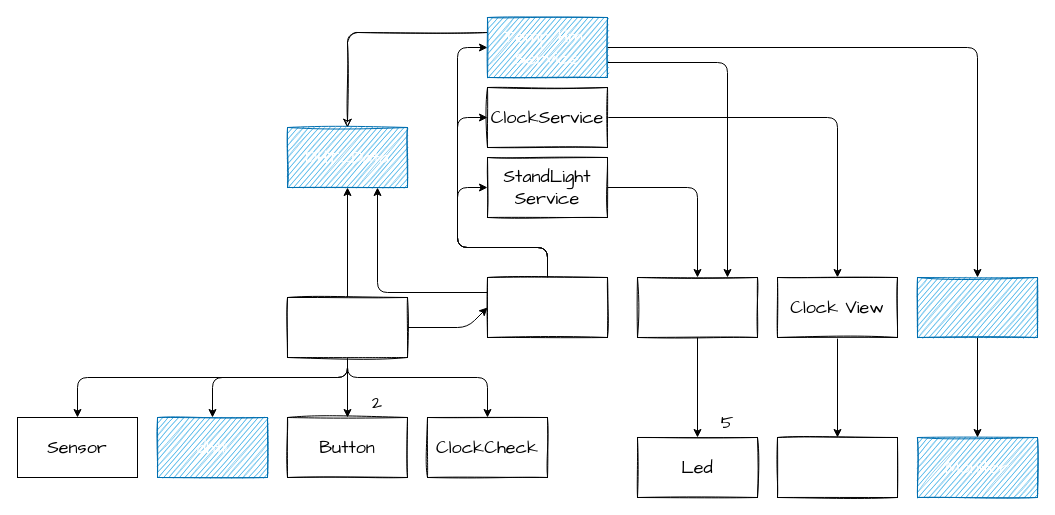
The diagram is 1055 pixels wide and 515 high, and some of its shapes have lost their labels. The shapes that lost their labels are listed below. From the top down, each one's centre as x and y in pixels, then its label:
point 347,327: Listener
point 547,307: Controller
point 697,307: Light View
point 977,307: Temp/Hm View
point 837,467: LCD
